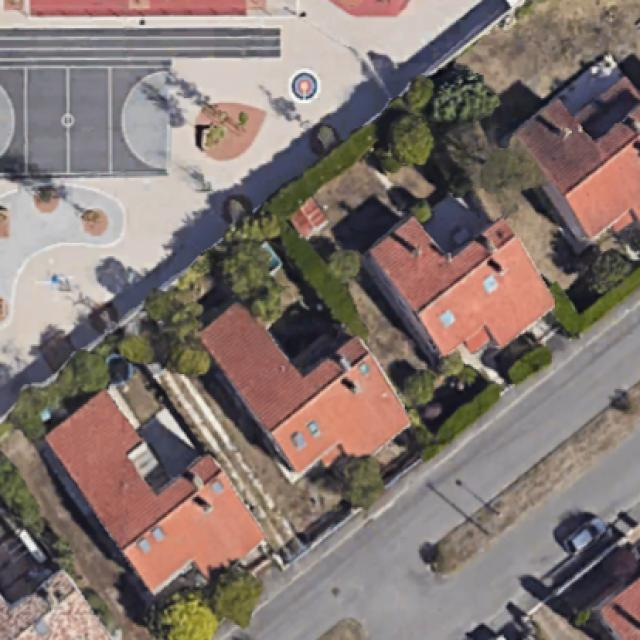maison: (41, 363, 265, 612), (195, 259, 415, 498), (352, 173, 565, 388), (500, 50, 640, 260)
